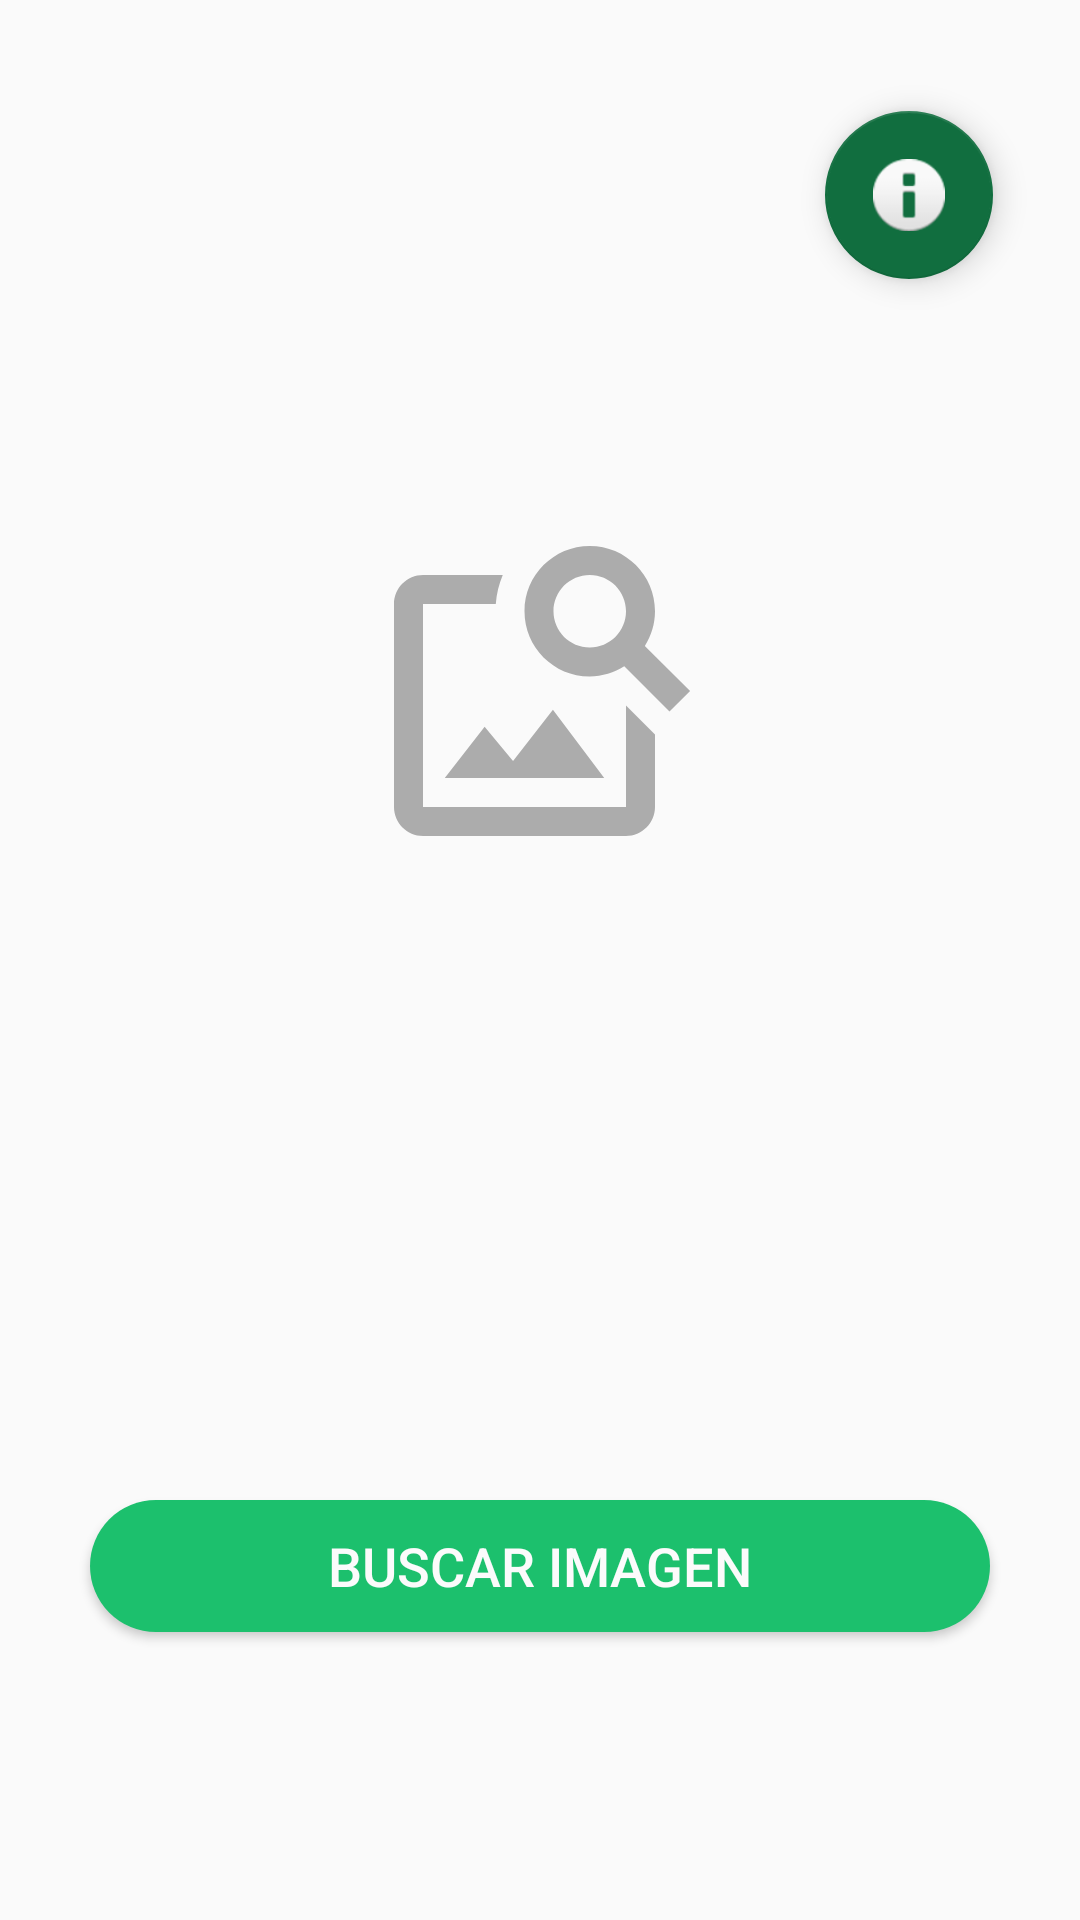

Point at icon controls on the screen. Image size 1080x1920, points as [x,y].
info: [909,195]
search: [542,691]
